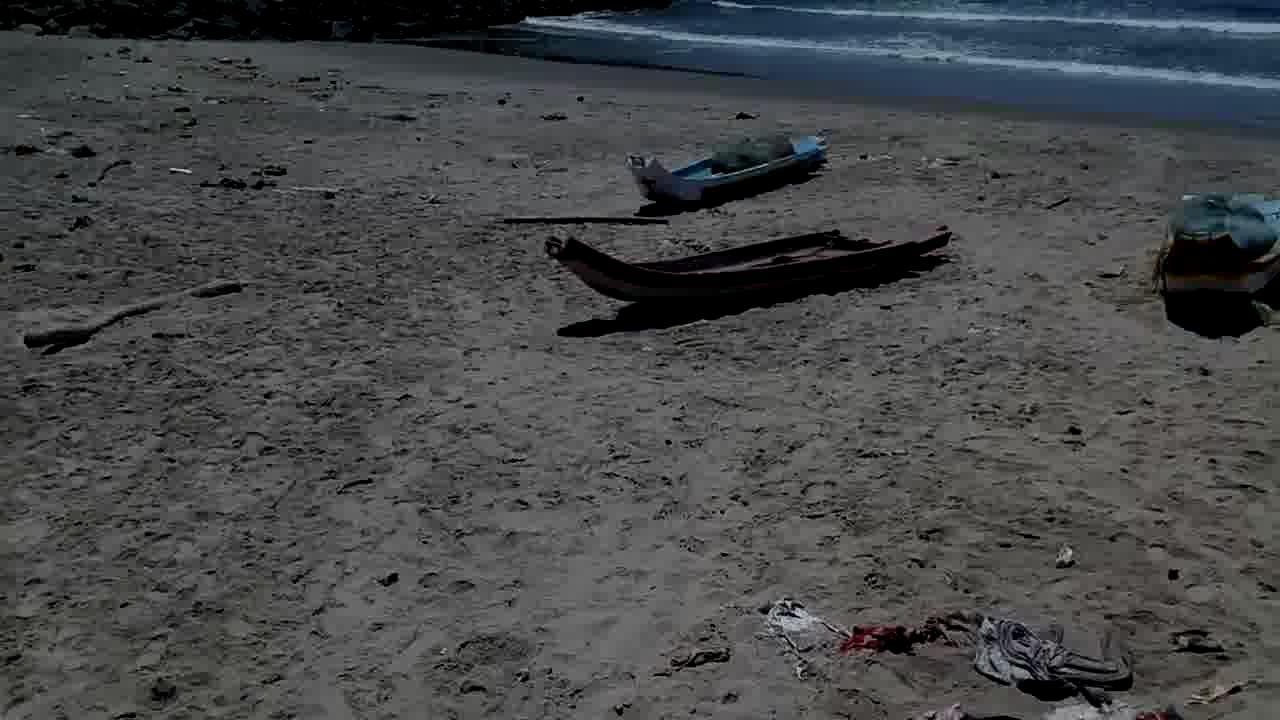large collection of objects: (546, 221, 945, 317), (626, 127, 829, 202), (1163, 232, 1279, 303)
obj: (21, 279, 241, 345), (946, 608, 1076, 698), (1166, 187, 1279, 251), (1068, 649, 1133, 707), (710, 131, 794, 170), (851, 618, 938, 652), (202, 165, 290, 191), (502, 216, 668, 226), (166, 168, 192, 176)
sand/background: (1, 0, 1279, 167)
